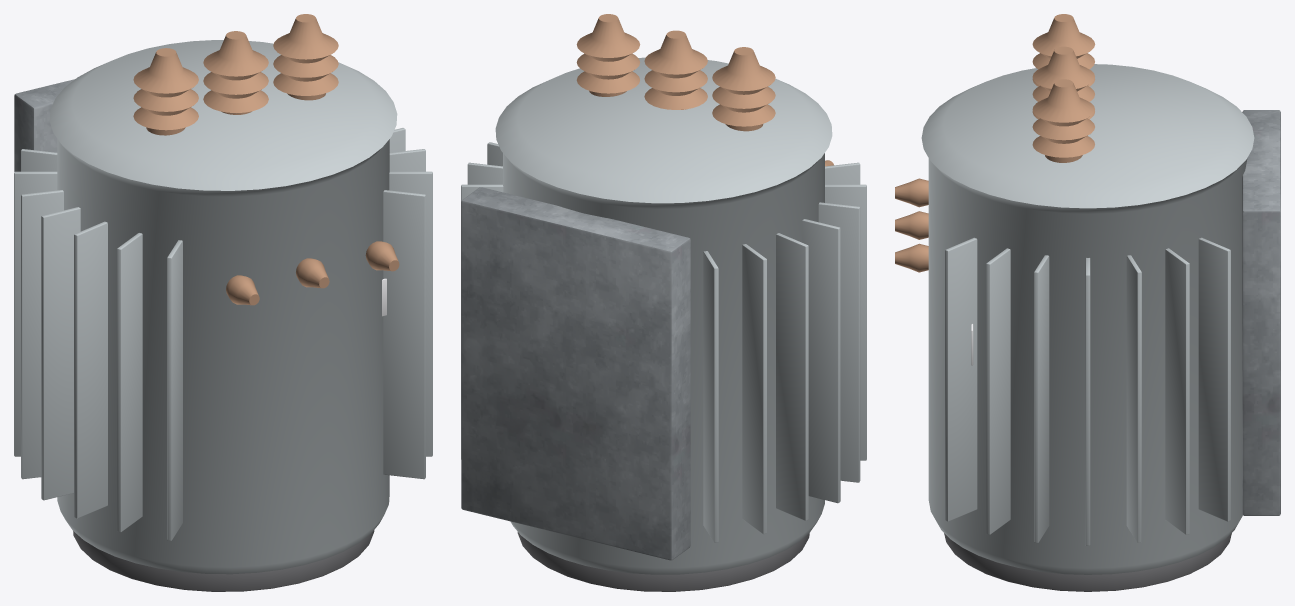
The model's file is ELE-ENT-003_lod1.glb.
The picture shows the model from 3 angles, left to right: view 1: azimuth 30°, elevation 25°; view 2: azimuth 150°, elevation 25°; view 3: azimuth 270°, elevation 25°; orthographic projection. The views are drawn at different scales.
Parts seen in each view (by area): view 1: ELE-ENT-003_tanque, ELE-ENT-003_aleta21, ELE-ENT-003_aleta13, ELE-ENT-003_aleta12, ELE-ENT-003_aleta14, ELE-ENT-003_aleta11, ELE-ENT-003_base, ELE-ENT-003_aleta15, ELE-ENT-003_buchaAT0, ELE-ENT-003_buchaAT2, ELE-ENT-003_buchaAT1, ELE-ENT-003_aleta22 (+7 smaller); view 2: ELE-ENT-003_suporte, ELE-ENT-003_tanque, ELE-ENT-003_aleta12, ELE-ENT-003_aleta11, ELE-ENT-003_aleta10, ELE-ENT-003_aleta13, ELE-ENT-003_base, ELE-ENT-003_aleta9, ELE-ENT-003_buchaAT0, ELE-ENT-003_buchaAT2, ELE-ENT-003_buchaAT1, ELE-ENT-003_aleta14 (+3 smaller); view 3: ELE-ENT-003_tanque, ELE-ENT-003_suporte, ELE-ENT-003_aleta3, ELE-ENT-003_aleta21, ELE-ENT-003_aleta2, ELE-ENT-003_aleta22, ELE-ENT-003_base, ELE-ENT-003_aleta1, ELE-ENT-003_aleta23, ELE-ENT-003_buchaAT2, ELE-ENT-003_buchaAT1, ELE-ENT-003_buchaAT0 (+4 smaller).
Boxes of the visible parts, x1,y1,x2,y2 form: ELE-ENT-003_tanque: [49, 40, 397, 574]; ELE-ENT-003_aleta21: [383, 190, 425, 479]; ELE-ENT-003_aleta13: [74, 221, 107, 518]; ELE-ENT-003_aleta12: [41, 207, 80, 500]; ELE-ENT-003_aleta14: [117, 233, 142, 532]; ELE-ENT-003_aleta11: [21, 190, 63, 479]; ELE-ENT-003_base: [73, 530, 374, 591]; ELE-ENT-003_aleta15: [167, 240, 182, 540]; ELE-ENT-003_buchaAT0: [133, 48, 198, 135]; ELE-ENT-003_buchaAT2: [273, 14, 338, 100]; ELE-ENT-003_buchaAT1: [203, 31, 268, 114]; ELE-ENT-003_aleta22: [389, 171, 432, 456]; ELE-ENT-003_suporte: [461, 187, 690, 560]; ELE-ENT-003_tanque: [495, 57, 832, 574]; ELE-ENT-003_aleta12: [802, 219, 840, 503]; ELE-ENT-003_aleta11: [776, 233, 808, 520]; ELE-ENT-003_aleta10: [742, 244, 766, 534]; ELE-ENT-003_aleta13: [818, 202, 860, 482]; ELE-ENT-003_base: [517, 532, 809, 591]; ELE-ENT-003_aleta9: [703, 251, 718, 542]; ELE-ENT-003_buchaAT0: [712, 47, 775, 131]; ELE-ENT-003_buchaAT2: [576, 14, 640, 96]; ELE-ENT-003_buchaAT1: [644, 30, 707, 109]; ELE-ENT-003_aleta14: [825, 184, 866, 460]; ELE-ENT-003_tanque: [921, 64, 1254, 574]; ELE-ENT-003_suporte: [1242, 110, 1280, 515]; ELE-ENT-003_aleta3: [1198, 237, 1230, 521]; ELE-ENT-003_aleta21: [945, 237, 977, 521]; ELE-ENT-003_aleta2: [1165, 248, 1189, 534]; ELE-ENT-003_aleta22: [986, 248, 1010, 534]; ELE-ENT-003_base: [944, 533, 1231, 591]; ELE-ENT-003_aleta1: [1126, 255, 1141, 542]; ELE-ENT-003_aleta23: [1034, 255, 1049, 542]; ELE-ENT-003_buchaAT2: [1032, 79, 1094, 162]; ELE-ENT-003_buchaAT1: [1032, 46, 1094, 119]; ELE-ENT-003_buchaAT0: [1032, 14, 1095, 86].
Bounding box in the file's own units: 0.83 × 1.1 × 0.8.
5 materials, 1 textured.
